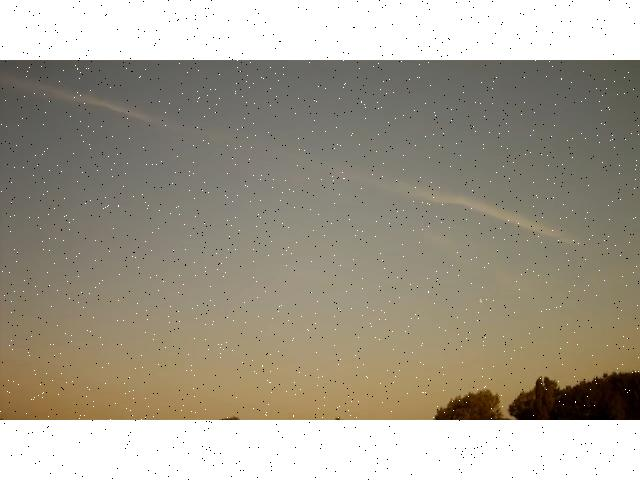Anti-Drone: (474, 295, 490, 311)
